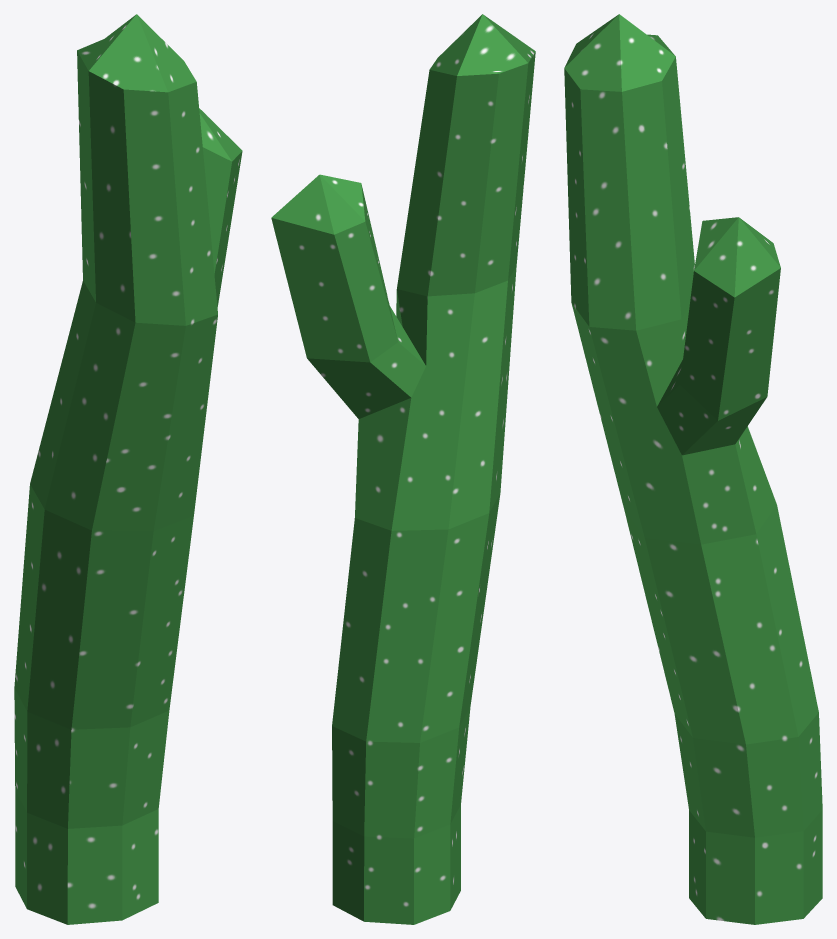
The model's file is Cactus.fbx.
The picture shows the model from 3 angles, left to right: view 1: azimuth 30°, elevation 25°; view 2: azimuth 150°, elevation 25°; view 3: azimuth 270°, elevation 25°; orthographic projection. The views are drawn at different scales.
Parts seen in each view (by area): view 1: Cactus1; view 2: Cactus1; view 3: Cactus1.
Boxes of the visible parts, bbox=[...] form: Cactus1: bbox=[14, 14, 242, 924]; Cactus1: bbox=[271, 14, 535, 924]; Cactus1: bbox=[564, 14, 822, 924].
Size of the model in its own units: 77.79 by 321 by 86.04.
1 material, 1 textured.
